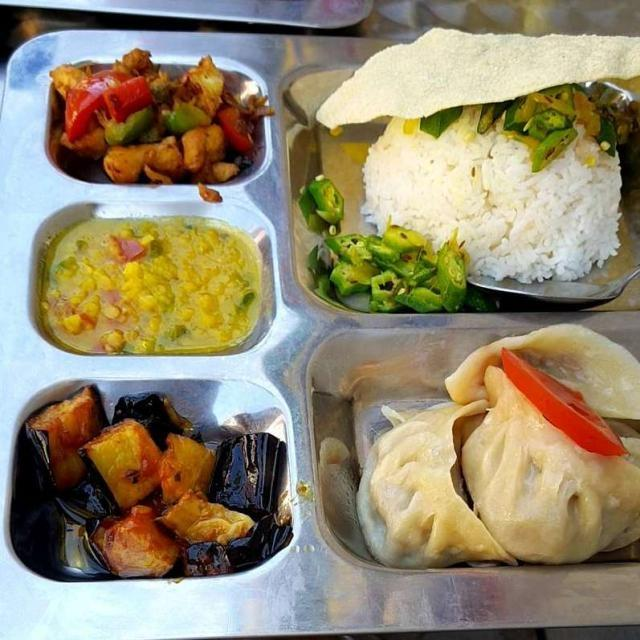bread: (319, 28, 635, 124)
dumplings: (358, 327, 638, 563)
eggplant: (30, 386, 291, 576)
meat: (54, 48, 227, 177)
mixed-vegetables: (62, 77, 619, 306)
rice: (359, 129, 630, 276)
soup: (41, 209, 265, 361)
